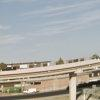Bridge: (8, 55, 96, 89)
